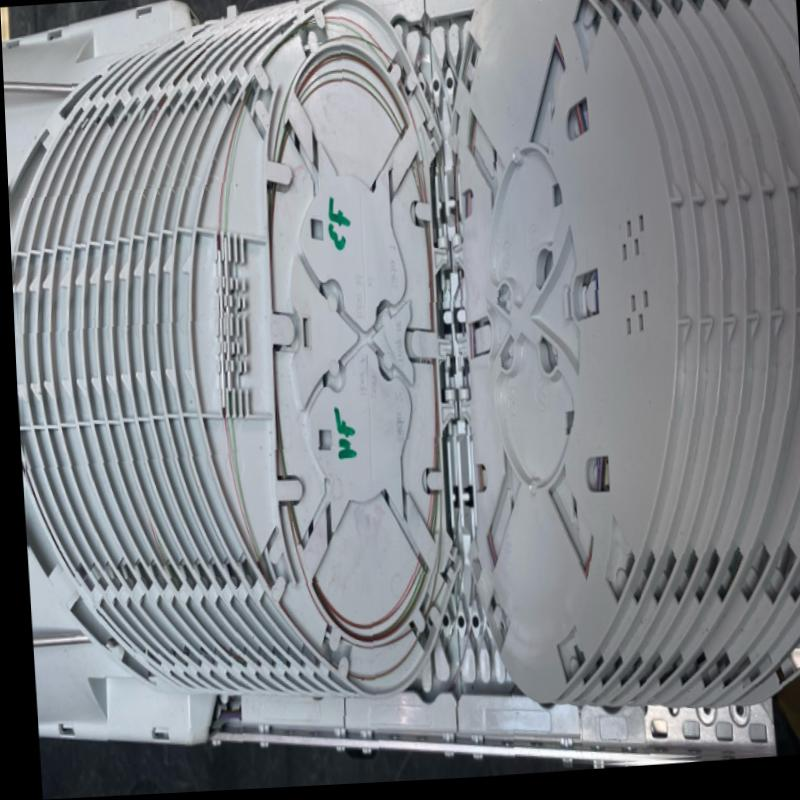NT-Muffen: (2, 0, 800, 770)
